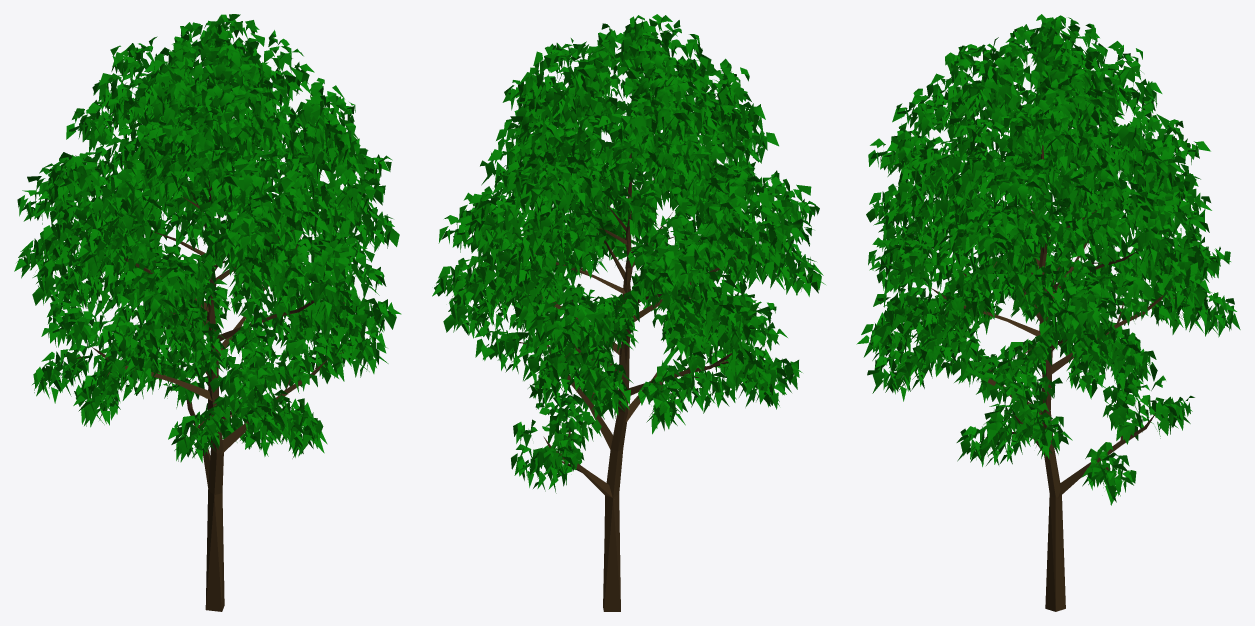
The model's file is birch_tree_lite.dae.
The picture shows the model from 3 angles, left to right: view 1: azimuth 30°, elevation 25°; view 2: azimuth 150°, elevation 25°; view 3: azimuth 270°, elevation 25°; orthographic projection. The views are drawn at different scales.
Parts seen in each view (by area): view 1: Tree.Birch_sub02.004; view 2: Tree.Birch_sub02.004; view 3: Tree.Birch_sub02.004.
Part boxes in pixels (bbox=[...]): Tree.Birch_sub02.004: bbox=[14, 14, 401, 611]; Tree.Birch_sub02.004: bbox=[432, 14, 825, 611]; Tree.Birch_sub02.004: bbox=[856, 14, 1240, 611].
Bounding box in the file's own units: 2.39 × 2.36 × 3.92.
